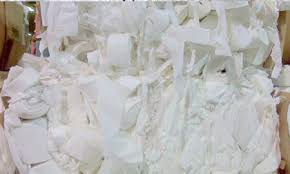Tissue: (106, 31, 133, 68)
